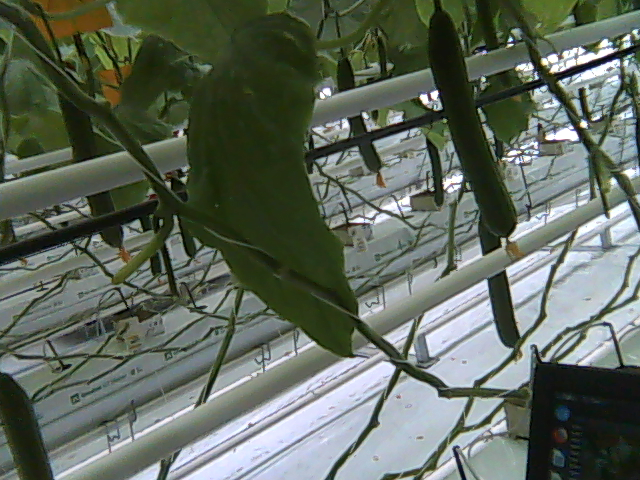concombre: (425, 6, 525, 266), (1, 364, 64, 480)
